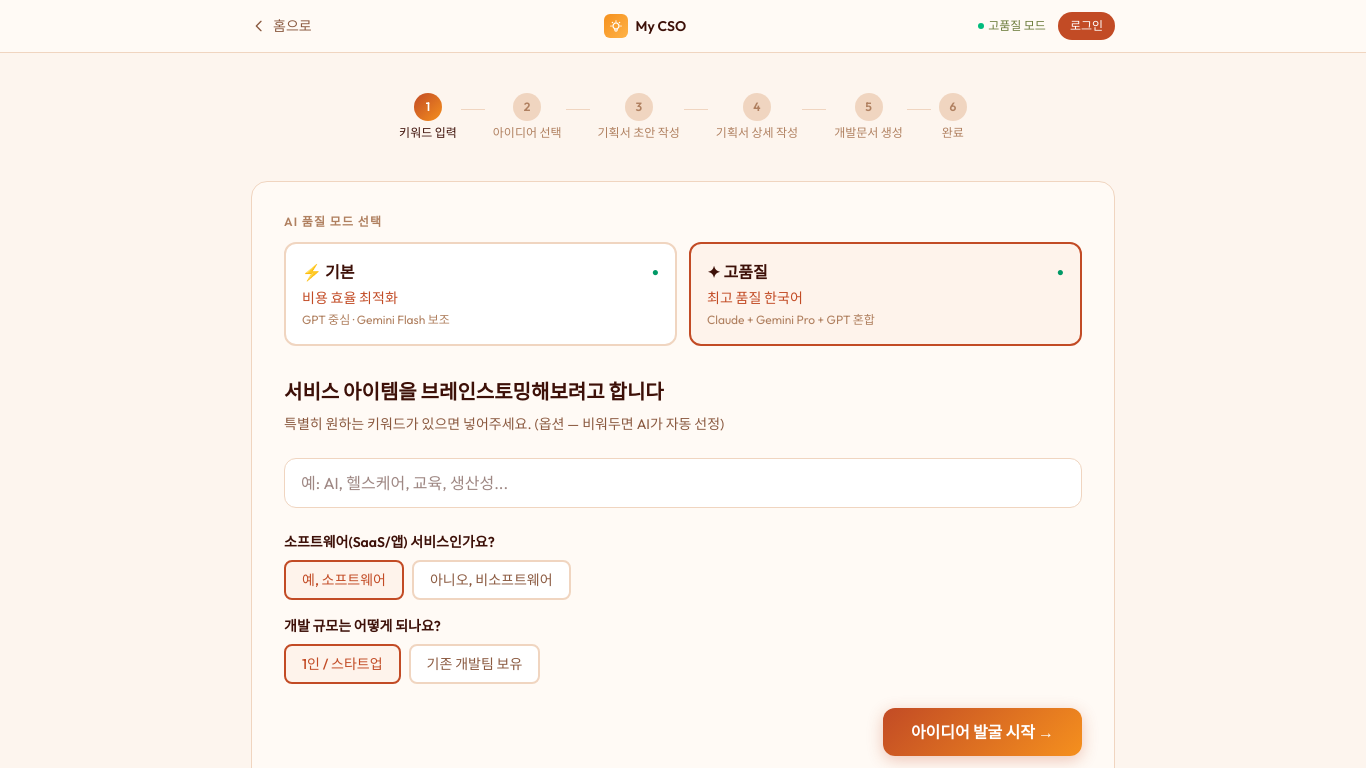
Test: Workflow Step: Select Ideas › shows raw response toggle
Type "AI" into the field with placeholder "예: AI, 헬스케어, 교육, 생산성...". click: (683, 483)
box: [284, 458, 1082, 508]
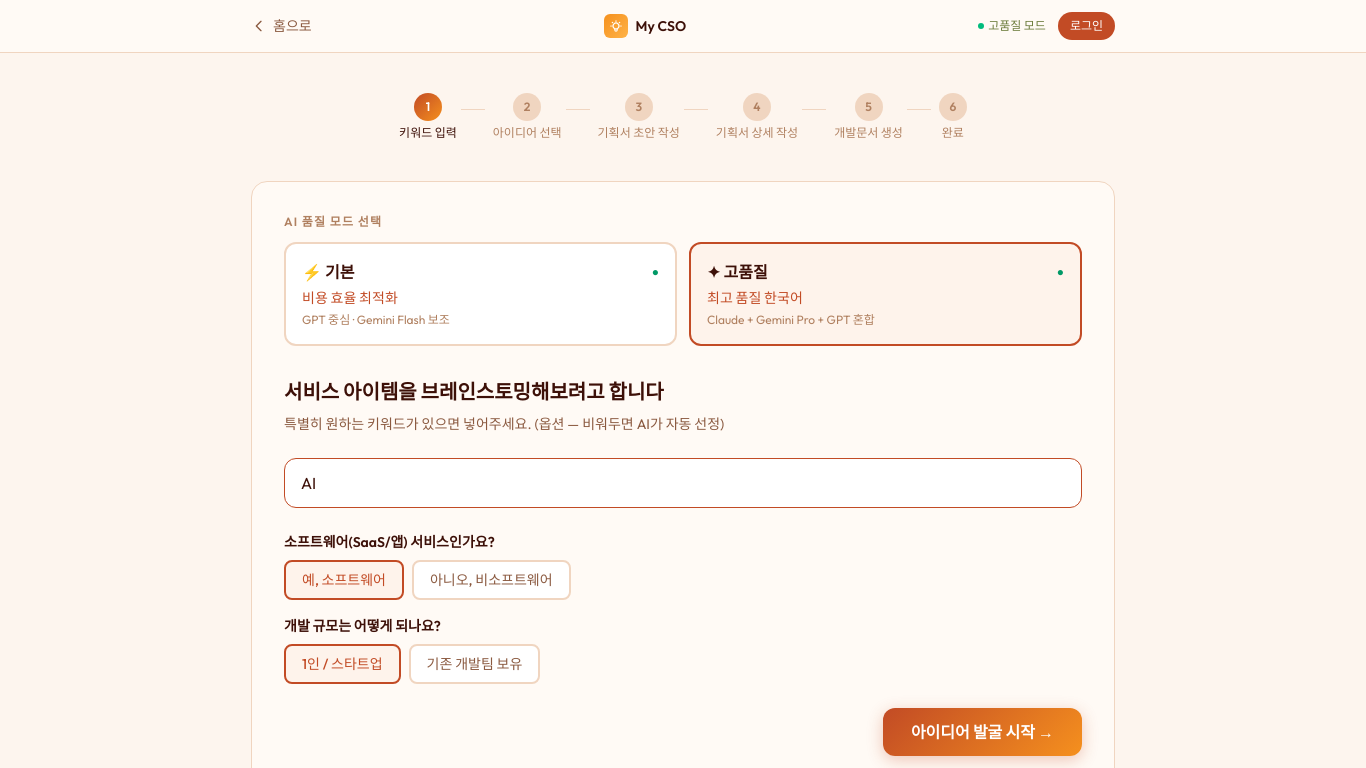
Click the button "아이디어 발굴 시작 →". click: (982, 732)
box: [883, 708, 1082, 756]
(page scrolled)
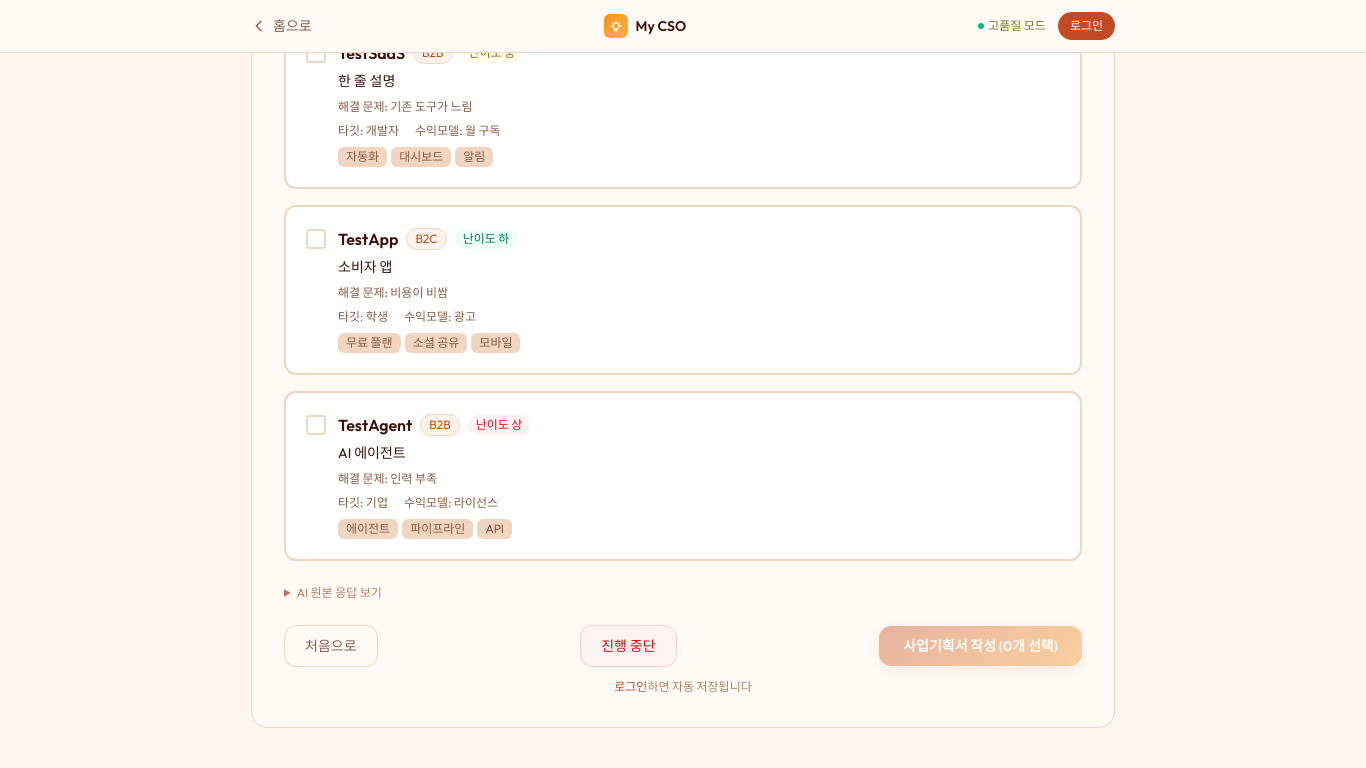
Expected: the heading "TestSaaS" is shown, [338, 41, 405, 65]
Expected: the heading "AI 원본 응답 보기" is shown, [297, 585, 382, 600]
